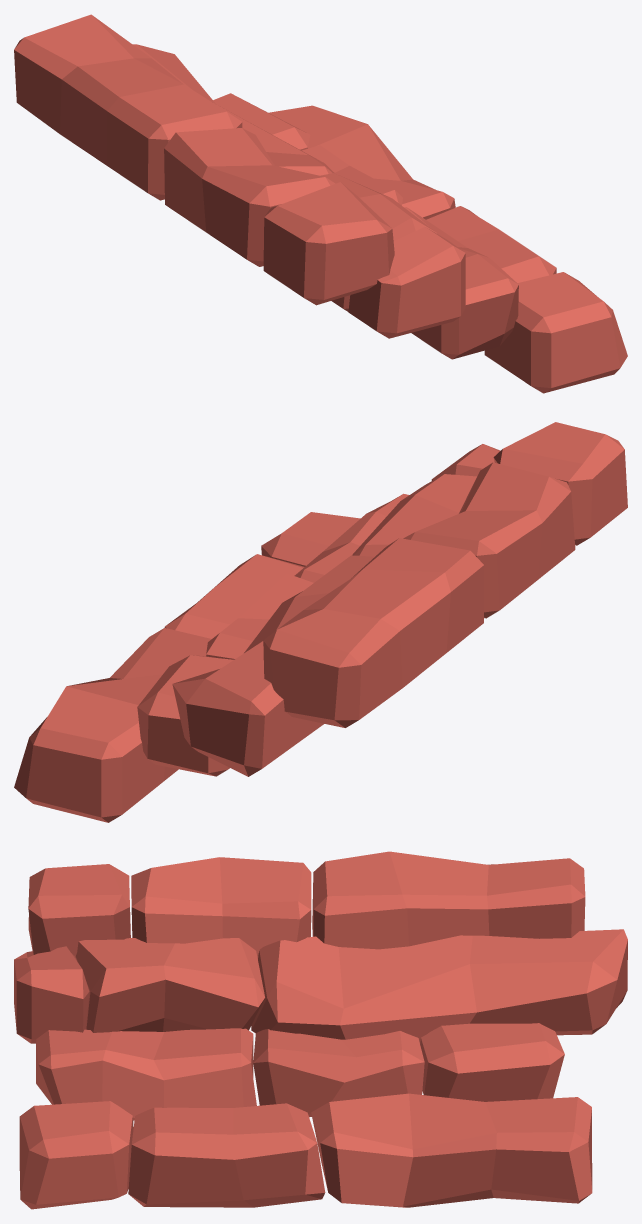
The model's file is ENV_stairs_color.fbx.
The picture shows the model from 3 angles, top to bottom: view 1: azimuth 30°, elevation 25°; view 2: azimuth 150°, elevation 25°; view 3: azimuth 270°, elevation 25°; orthographic projection. The views are drawn at different scales.
Parts seen in each view (by area): view 1: Cube.013; view 2: Cube.013; view 3: Cube.013.
Boxes of the visible parts, box(x1,y1,x2,y2) form: Cube.013: box(14, 14, 627, 393); Cube.013: box(14, 422, 627, 822); Cube.013: box(14, 851, 627, 1209).
Size of the model in its own units: 454 by 281 by 178.
